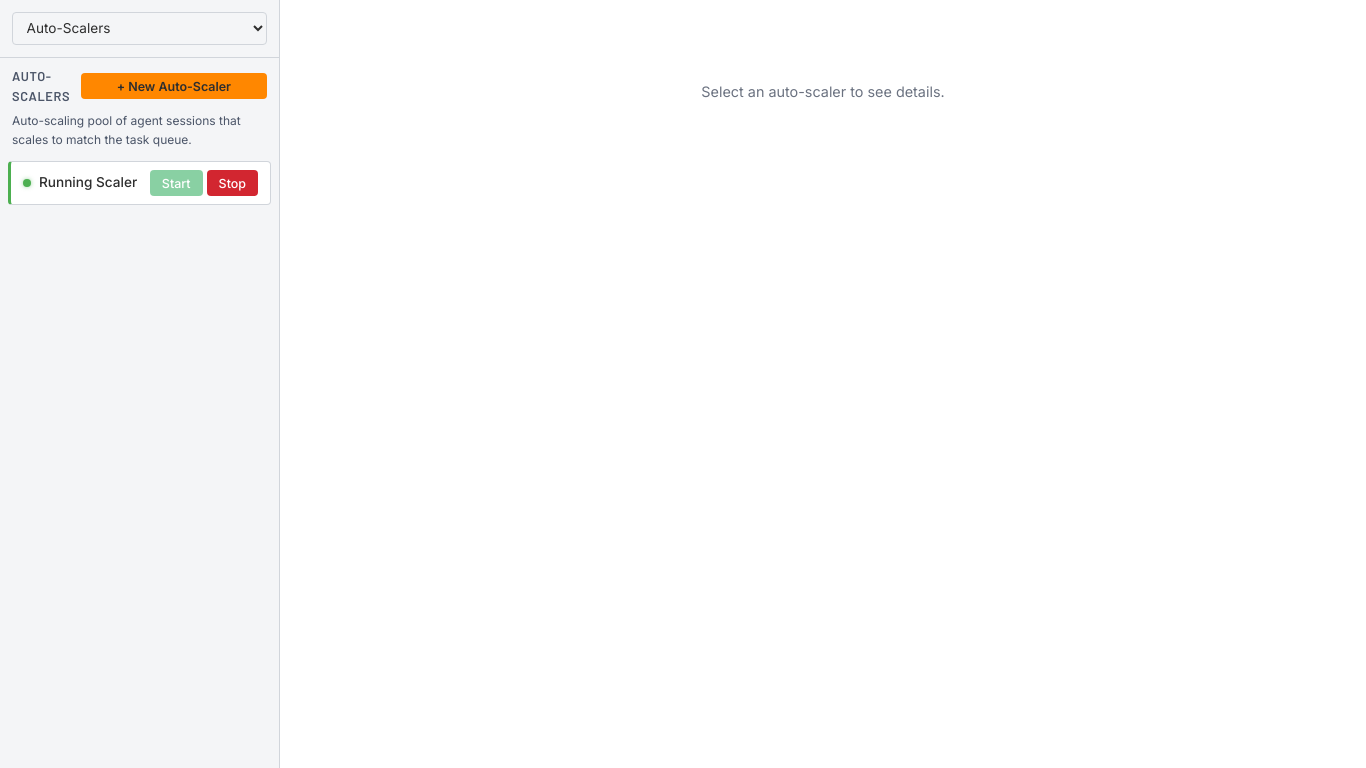
Scenario: AutoScaler detail view — edit form › edit inputs are disabled when auto-scaler is running
The image size is (1366, 768).
What coordinates should you click on to do the following:
click the button "Running Scaler Start Stop"
I would click on:
 (140, 183)
Its box is [8,161,271,205].
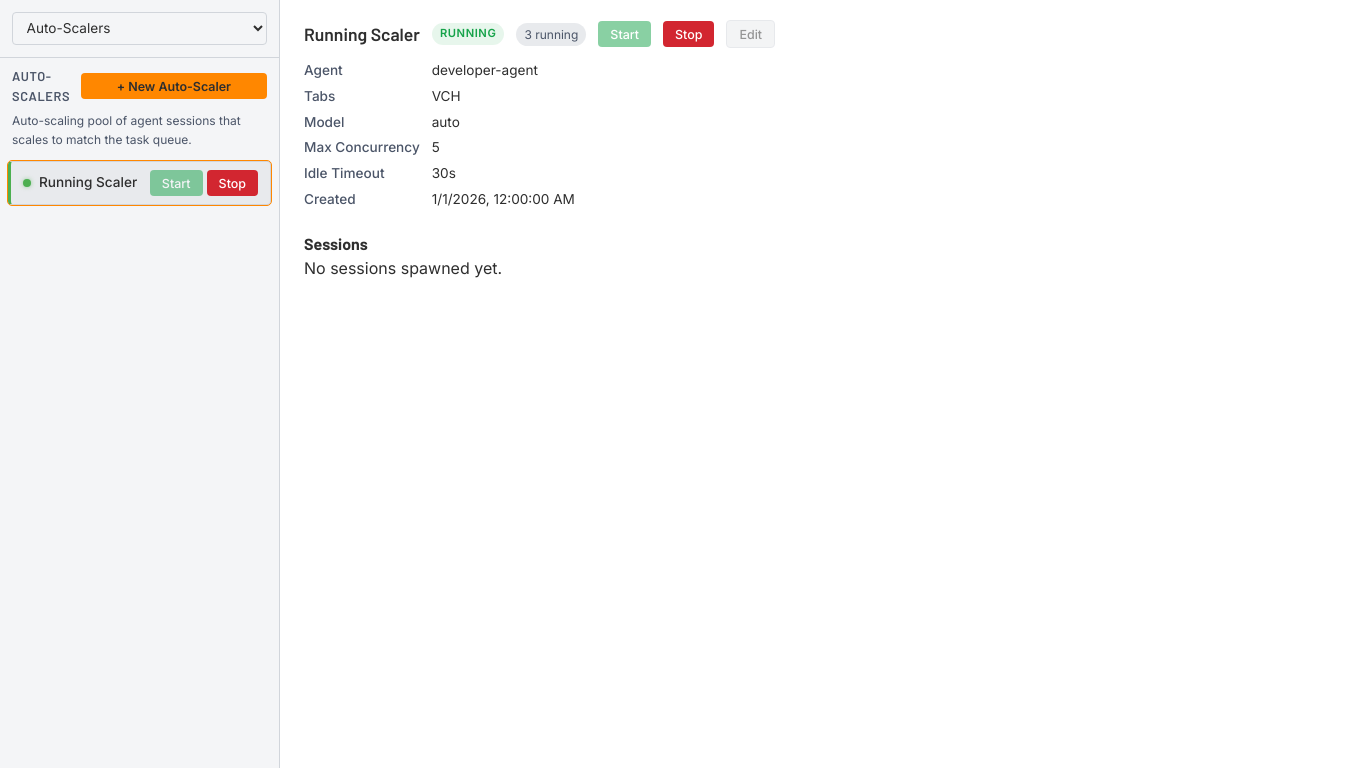
Check: the button "Edit" is disabled, box [726,20,775,48]
